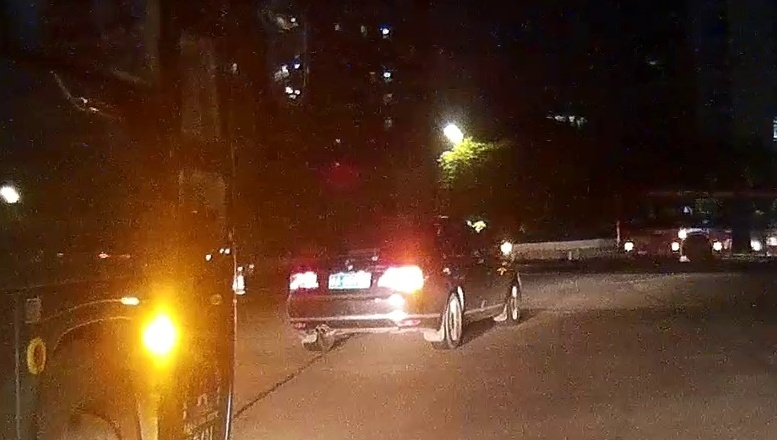L_light: (288, 271, 319, 290)
R_light: (377, 264, 424, 294)
T_light: (352, 220, 377, 226)
night-right: (286, 215, 439, 350)
